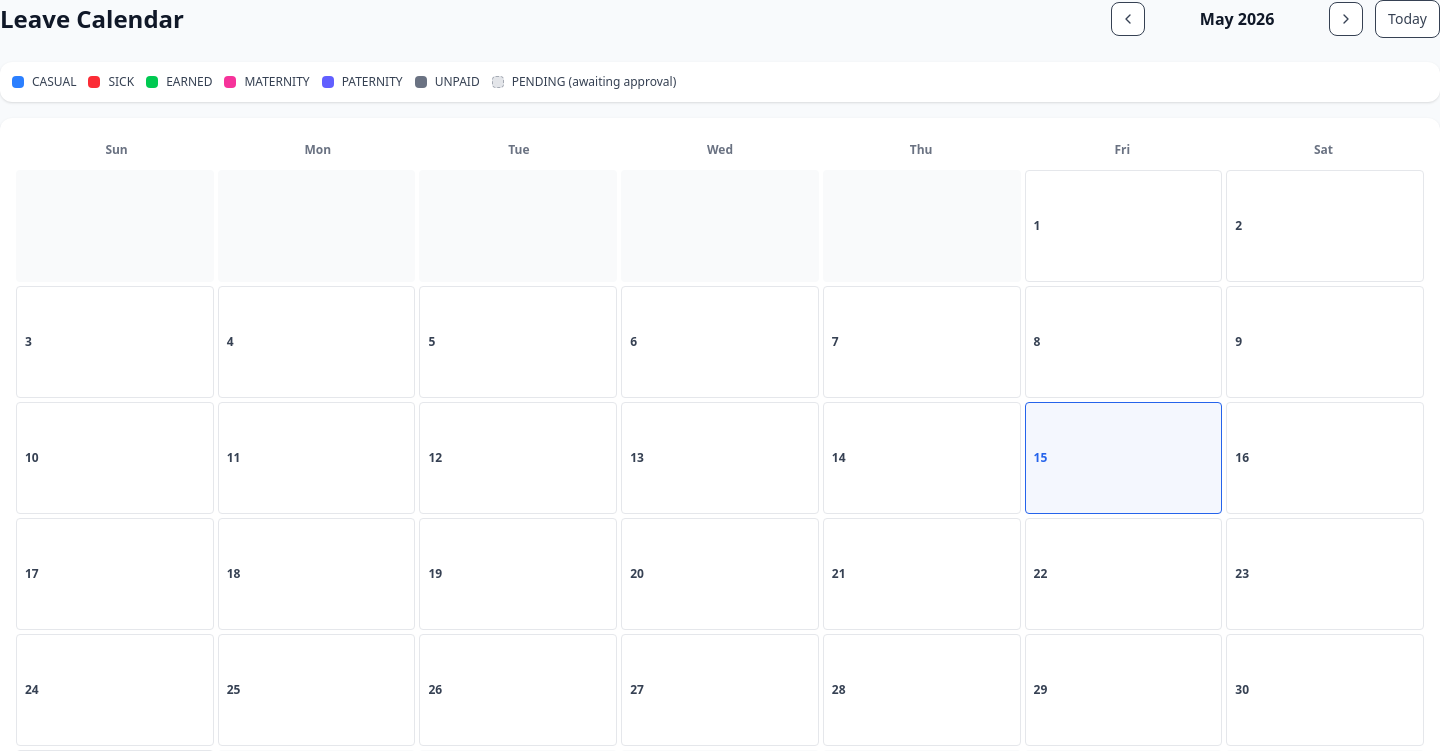
it: LeaveCalendarPage › renders 'No one is on leave this day' when an empty day is clicked
Click the button "1".
click(1123, 226)  # box [1025,170,1222,282]
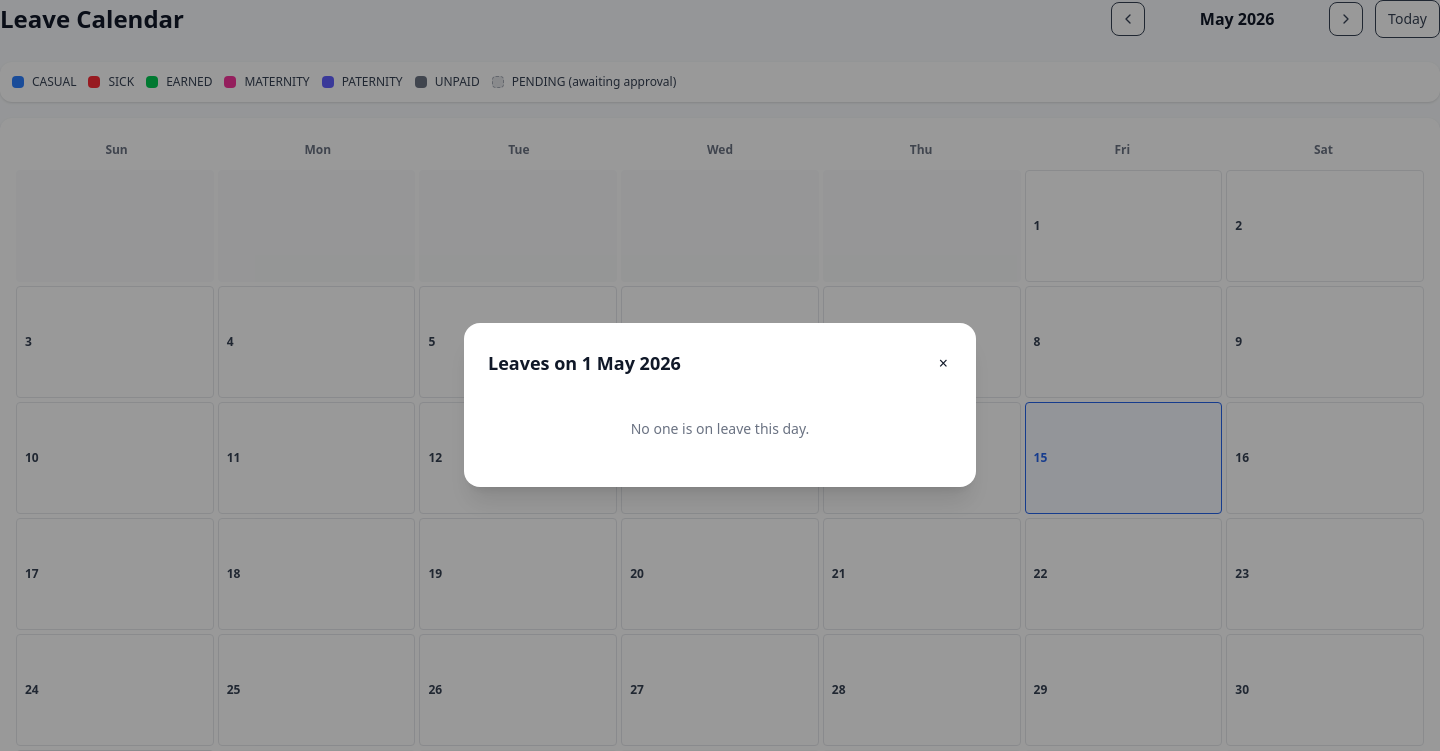
Now the text "No one is on leave this day." is shown, box [631,419,809,438]
